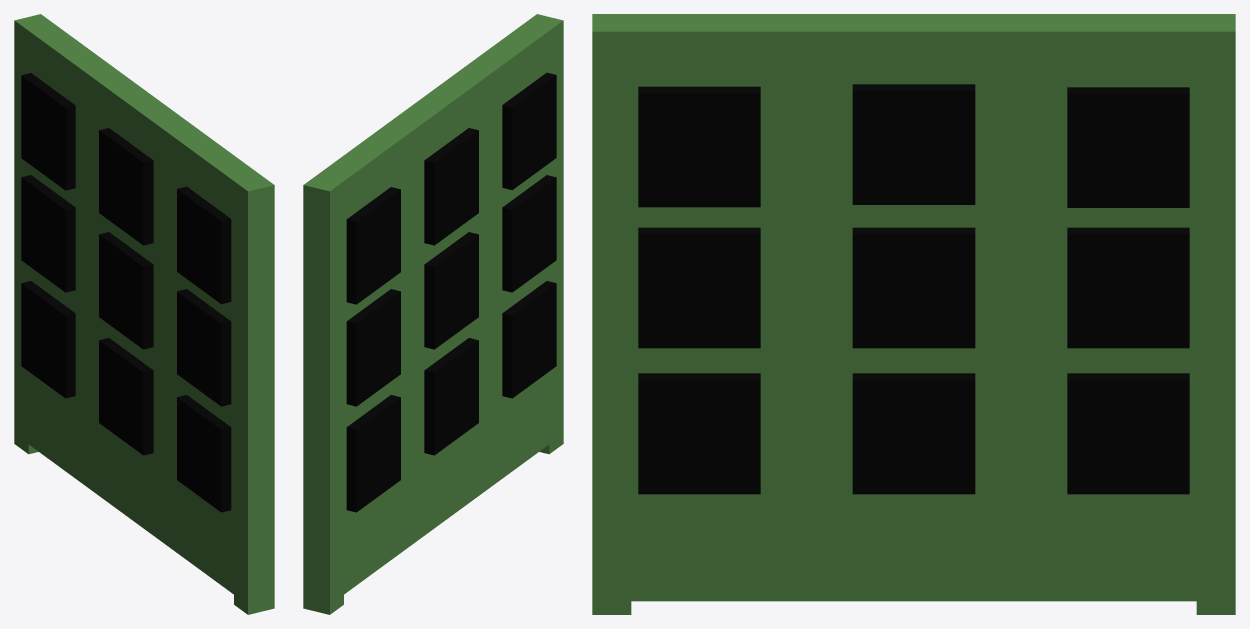
Rendered from simonsays_mdl.fbx.
3 renders of one model, left to right at view 1: azimuth 30°, elevation 25°; view 2: azimuth 150°, elevation 25°; view 3: azimuth 270°, elevation 25°, orthographic. The views are drawn at different scales.
Parts seen in each view (by area): view 1: pCube14, pCube5, pCube4, pCube8, pCube11, pCube3, pCube6, pCube9, pCube10, pCube7; view 2: pCube14, pCube5, pCube8, pCube6, pCube10, pCube3, pCube4, pCube9, pCube11, pCube7; view 3: pCube14, pCube7, pCube5, pCube4, pCube6, pCube9, pCube10, pCube11, pCube3, pCube8.
Boxes of the visible parts, bbox=[...] form: pCube14: bbox=[14, 14, 274, 614]; pCube5: bbox=[99, 232, 153, 349]; pCube4: bbox=[177, 289, 231, 406]; pCube8: bbox=[21, 73, 75, 190]; pCube11: bbox=[21, 281, 75, 398]; pCube3: bbox=[99, 128, 153, 245]; pCube6: bbox=[21, 175, 75, 292]; pCube9: bbox=[177, 186, 231, 304]; pCube10: bbox=[177, 395, 231, 512]; pCube7: bbox=[99, 338, 153, 455]; pCube14: bbox=[303, 14, 563, 614]; pCube5: bbox=[424, 232, 478, 349]; pCube8: bbox=[346, 187, 400, 304]; pCube6: bbox=[346, 289, 400, 406]; pCube10: bbox=[502, 281, 556, 398]; pCube3: bbox=[424, 128, 478, 245]; pCube4: bbox=[502, 175, 556, 292]; pCube9: bbox=[502, 72, 556, 190]; pCube11: bbox=[346, 395, 400, 512]; pCube7: bbox=[424, 338, 478, 455]; pCube14: bbox=[592, 14, 1235, 614]; pCube7: bbox=[852, 373, 975, 494]; pCube5: bbox=[852, 227, 975, 348]; pCube4: bbox=[638, 227, 760, 348]; pCube6: bbox=[1067, 227, 1189, 348]; pCube9: bbox=[638, 86, 760, 207]; pCube10: bbox=[638, 373, 760, 494]; pCube11: bbox=[1067, 373, 1189, 494]; pCube3: bbox=[852, 84, 975, 204]; pCube8: bbox=[1067, 87, 1189, 207].
Size of the model in its own units: 0.3443 by 3 by 3.
